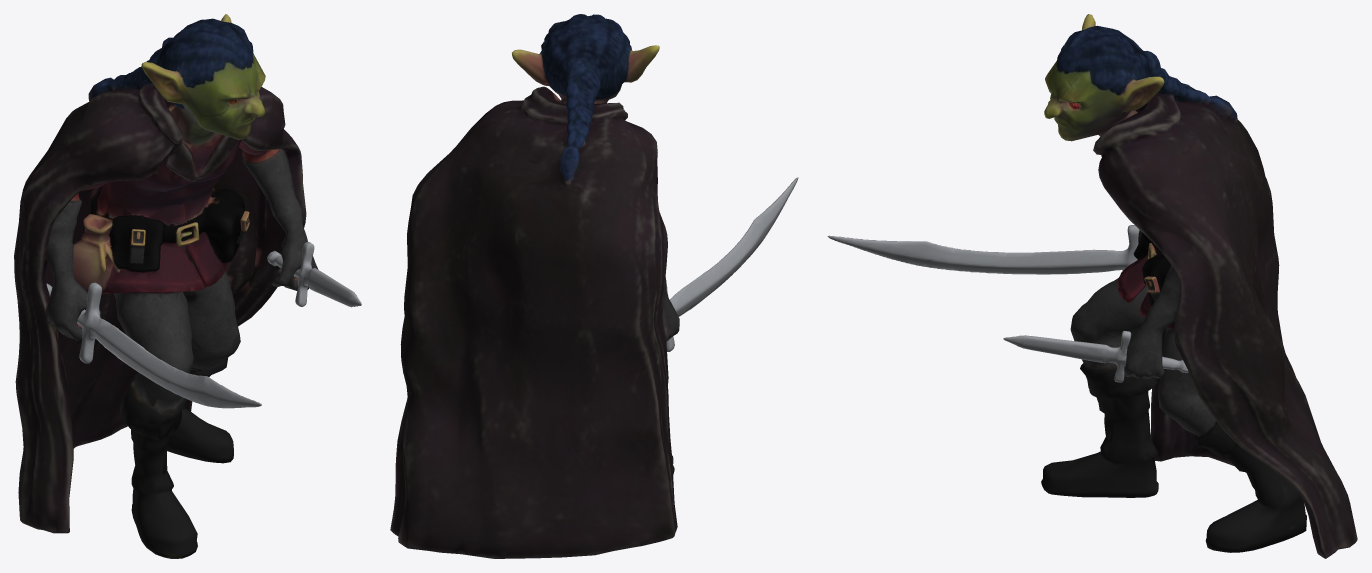
Rendered from MZ4250 - Goblinoid Revenant Rogue.glb.
The picture shows the model from 3 angles, left to right: view 1: azimuth 30°, elevation 25°; view 2: azimuth 150°, elevation 25°; view 3: azimuth 270°, elevation 25°; orthographic projection. The views are drawn at different scales.
Parts seen in each view (by area): view 1: Body.004; view 2: Body.004; view 3: Body.004.
Part boxes in pixels (box(x1,y1,x2,y2)): Body.004: box(14, 14, 361, 558); Body.004: box(390, 14, 798, 558); Body.004: box(827, 14, 1357, 558).
Size of the model in its own units: 12.05 by 20.4 by 20.31.
Materials: 4 (4 with a texture image).
